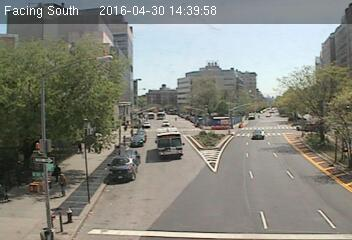neg: (293, 100, 336, 157), (23, 28, 55, 71), (1, 112, 33, 155), (219, 32, 248, 71), (161, 123, 190, 161), (146, 183, 174, 221), (319, 34, 347, 71), (99, 167, 125, 202), (192, 185, 216, 216), (284, 36, 307, 67), (128, 37, 150, 67), (200, 145, 222, 173), (234, 120, 255, 148), (207, 85, 227, 111), (74, 119, 94, 145), (280, 85, 298, 110), (60, 205, 78, 229), (65, 85, 80, 105), (247, 164, 262, 183)
pos: (55, 175, 71, 196), (51, 163, 63, 178)
